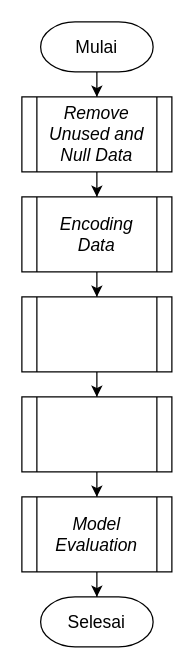
Some shapes in this 194 by 669 pixel diagram are drawn without their labels. Each missing label, with the centre of its shape:
"Clustering Data" belongs at pixel 96 434.
"Outlier Detection" belongs at pixel 96 334.
